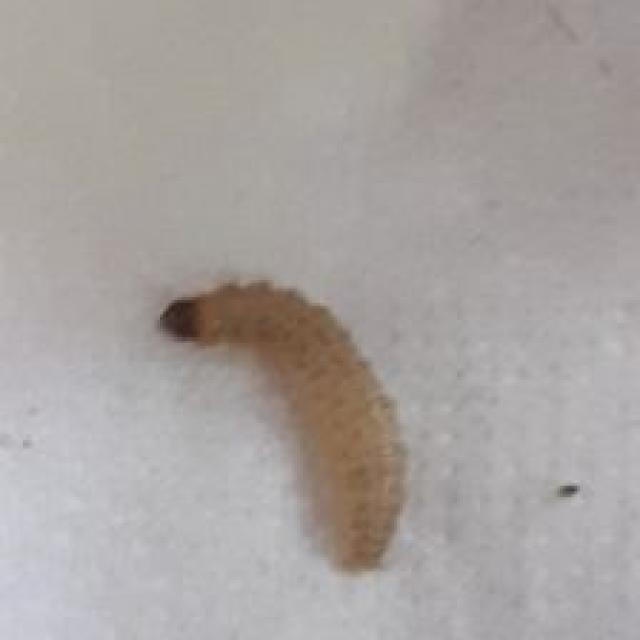white mucus: (149, 268, 476, 595)
